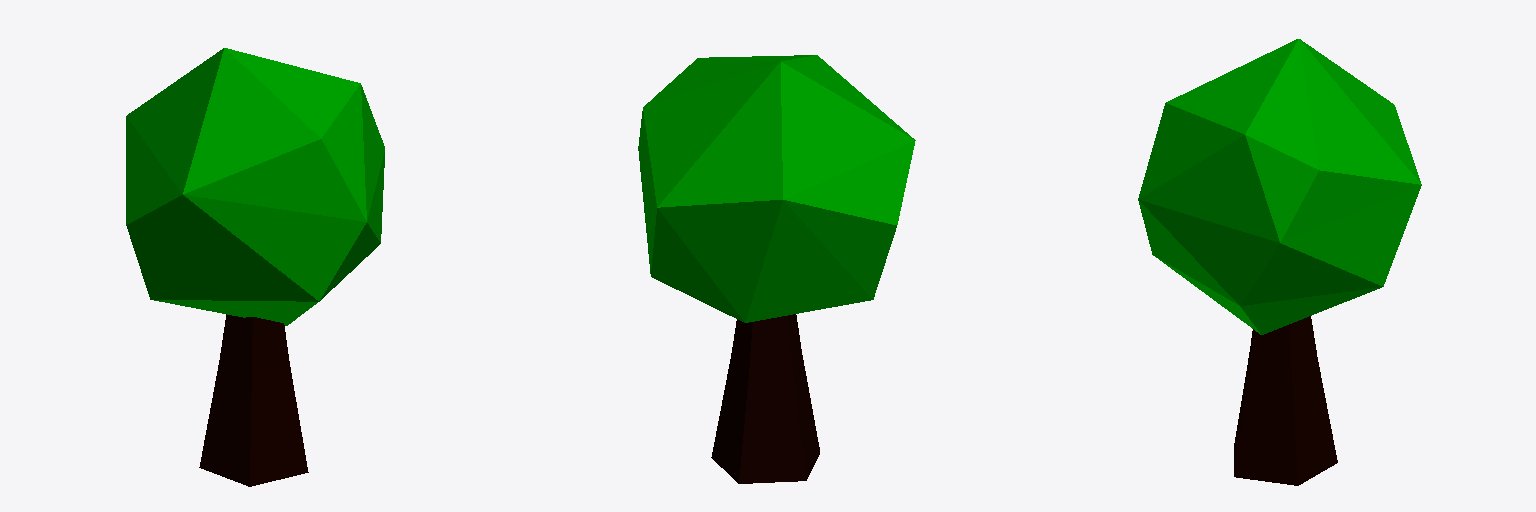
File: boom.obj
The picture shows the model from 3 angles: view 1: azimuth 30°, elevation 25°; view 2: azimuth 150°, elevation 25°; view 3: azimuth 270°, elevation 25°; orthographic projection.
Visible parts, largest first — view 1: Icosphere, Cylinder_Cylinder.002; view 2: Icosphere, Cylinder_Cylinder.002; view 3: Icosphere, Cylinder_Cylinder.002.
Part boxes in pixels (x1,y1,x2,y2): Icosphere: (126, 48, 384, 325); Cylinder_Cylinder.002: (199, 314, 308, 486); Icosphere: (638, 55, 915, 322); Cylinder_Cylinder.002: (711, 314, 819, 483); Icosphere: (1138, 39, 1421, 334); Cylinder_Cylinder.002: (1234, 316, 1337, 485).
Size of the model in its own units: 3.44 by 5.25 by 3.26.